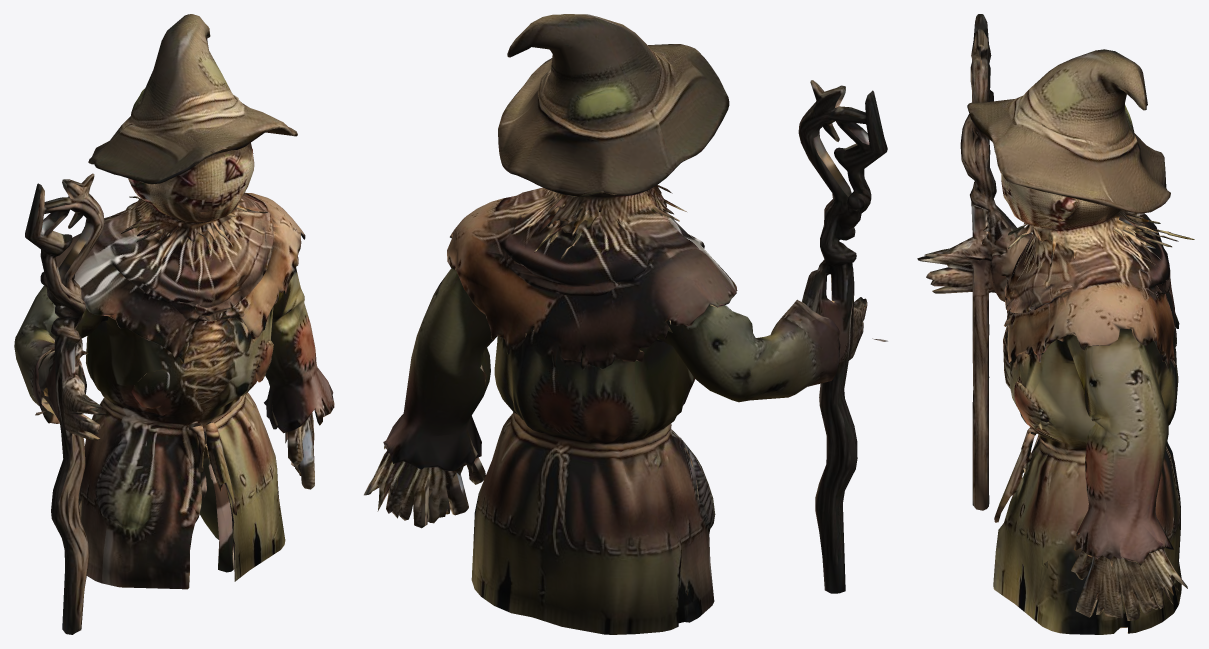
File: u_scarecrow.glb
3 views of the same model, side by side, from view 1: azimuth 30°, elevation 25°; view 2: azimuth 150°, elevation 25°; view 3: azimuth 270°, elevation 25° (orthographic). The views are drawn at different scales.
Parts seen in each view (by area): view 1: Scarecrow; view 2: Scarecrow; view 3: Scarecrow.
Part boxes in pixels (x1,y1,x2,y2): Scarecrow: (14,14,334,634); Scarecrow: (364,14,887,634); Scarecrow: (917,14,1194,634).
Bounding box in the file's own units: 1.36 × 1.8 × 0.835.
1 material, 1 textured.
